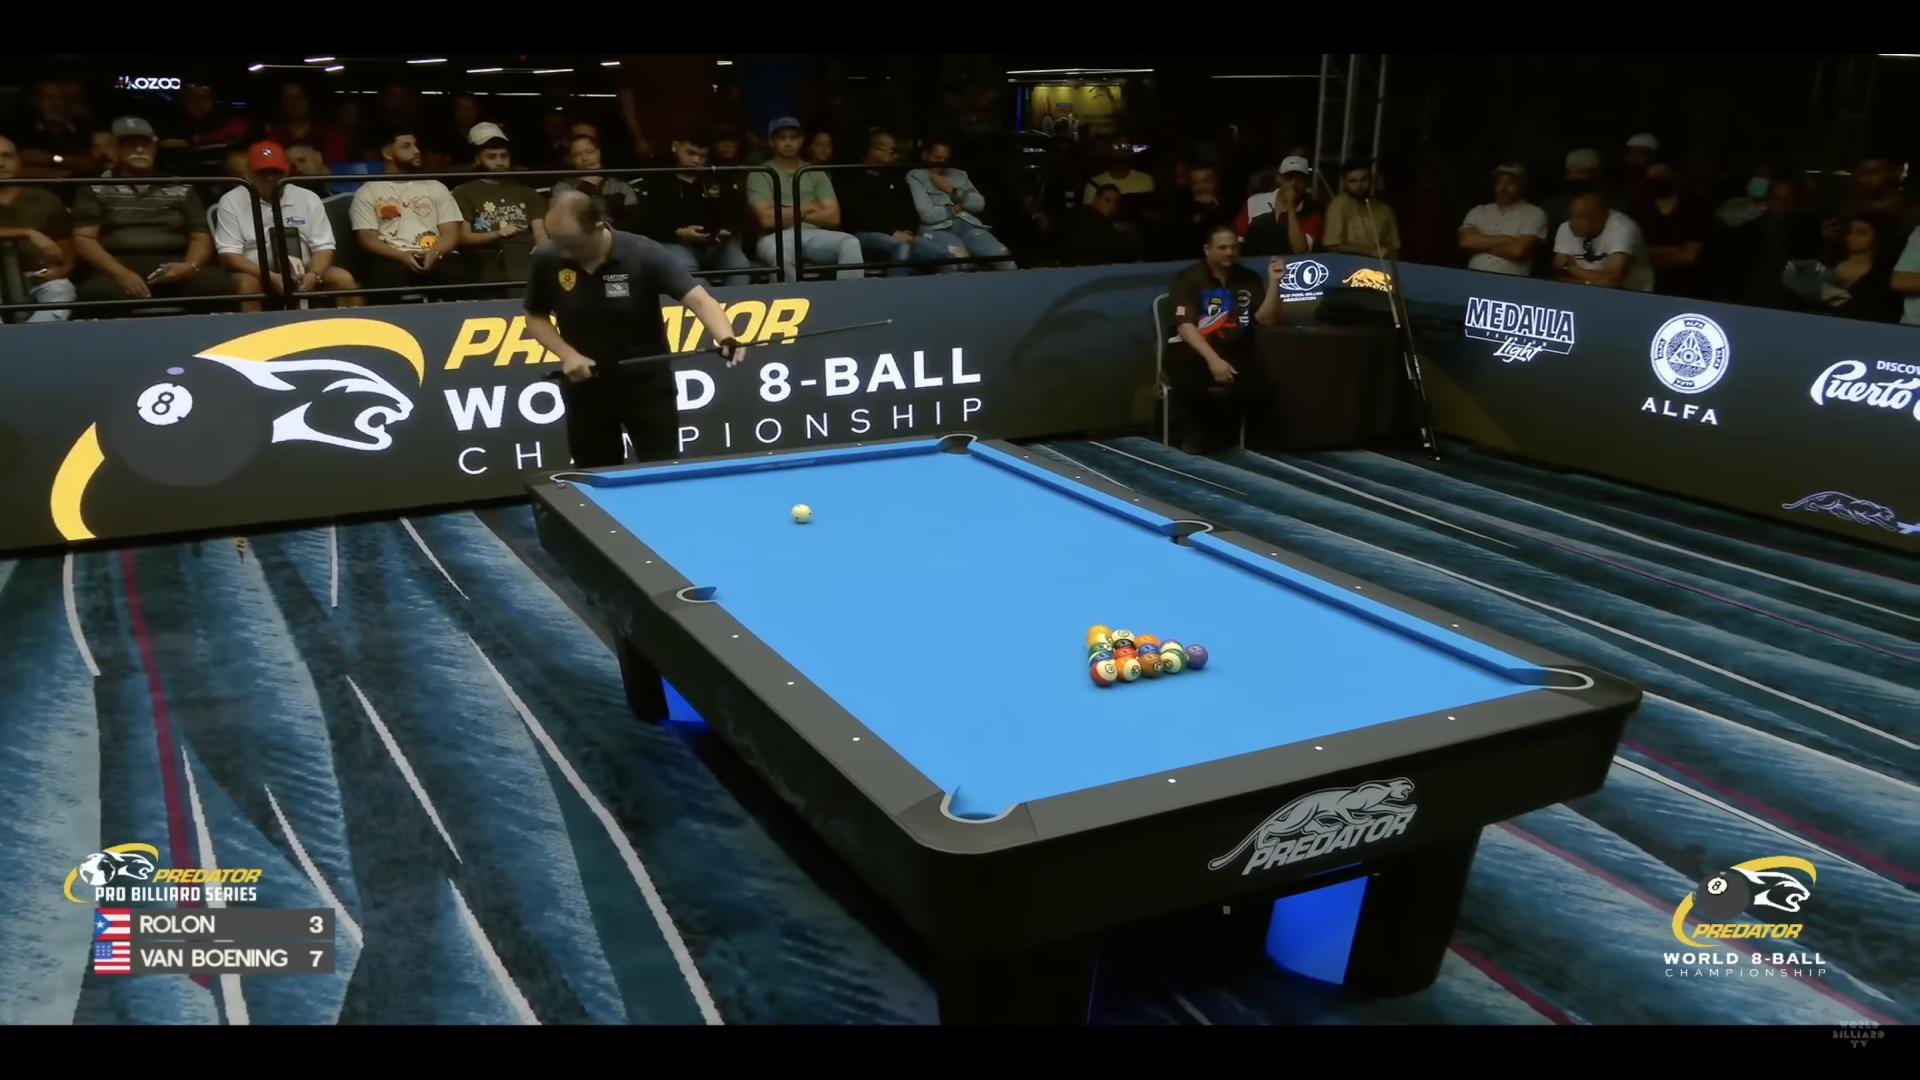Black: (1112, 638, 1137, 650)
Cue: (790, 504, 812, 522)
Dot: (641, 555, 654, 567), (1312, 742, 1324, 754), (1445, 712, 1457, 724), (1449, 620, 1461, 632), (1166, 777, 1178, 787), (1353, 583, 1365, 593), (849, 733, 861, 744), (785, 678, 796, 688), (729, 630, 741, 641), (608, 527, 620, 538), (1270, 550, 1279, 559), (1133, 496, 1141, 504), (1073, 473, 1081, 481), (1021, 454, 1029, 462), (671, 459, 679, 467), (578, 502, 585, 509), (766, 450, 774, 456), (857, 443, 861, 447)
Solid: (1137, 653, 1164, 678), (1183, 644, 1208, 669), (1133, 634, 1160, 647), (1088, 642, 1112, 657), (1087, 625, 1112, 638), (1113, 647, 1138, 661), (1137, 644, 1160, 655)
Striped: (1091, 661, 1118, 687), (1159, 649, 1187, 674), (1116, 657, 1141, 682), (1089, 651, 1114, 669), (1087, 633, 1112, 647), (1159, 640, 1183, 653), (1112, 629, 1134, 641)
